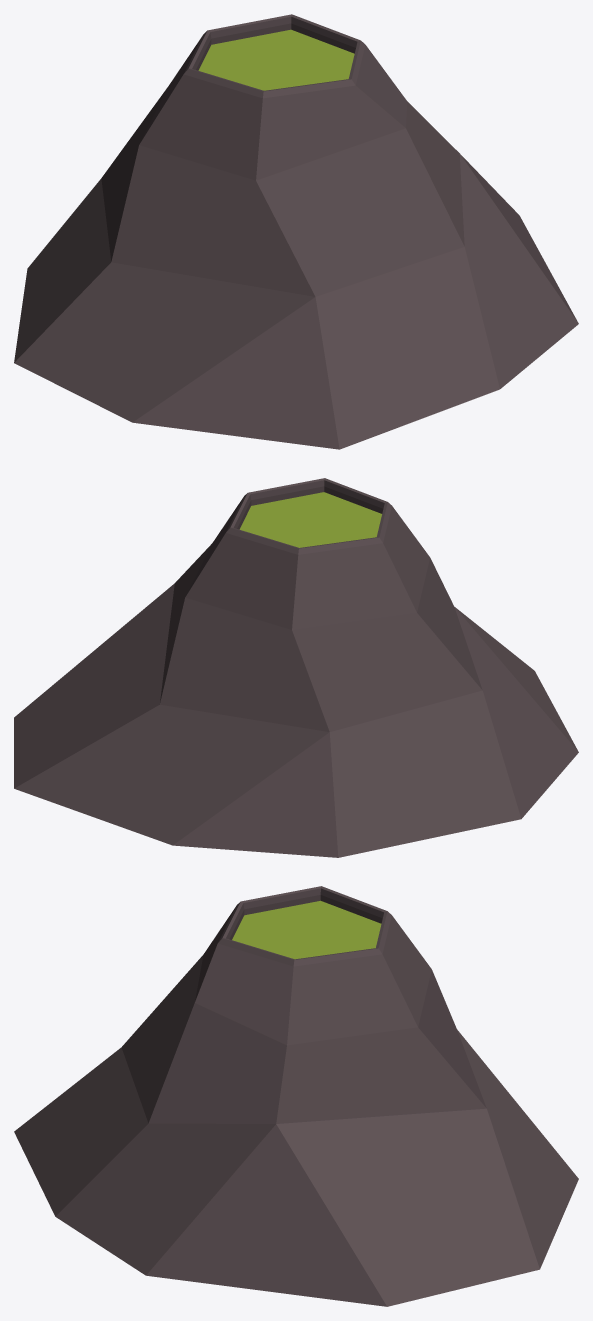
The model's file is Geyser.fbx.
3 renders of one model, top to bottom at view 1: azimuth 30°, elevation 25°; view 2: azimuth 150°, elevation 25°; view 3: azimuth 270°, elevation 25°, orthographic. The views are drawn at different scales.
Parts seen in each view (by area): view 1: Circle, Circle.001; view 2: Circle, Circle.001; view 3: Circle, Circle.001.
Boxes of the visible parts, x1,y1,x2,y2 form: Circle: (14,14,578,449); Circle.001: (198,29,354,90); Circle: (14,478,578,857); Circle.001: (239,492,381,547); Circle: (14,886,578,1306); Circle.001: (232,900,381,959).
Size of the model in its own units: 228 by 107 by 219.
